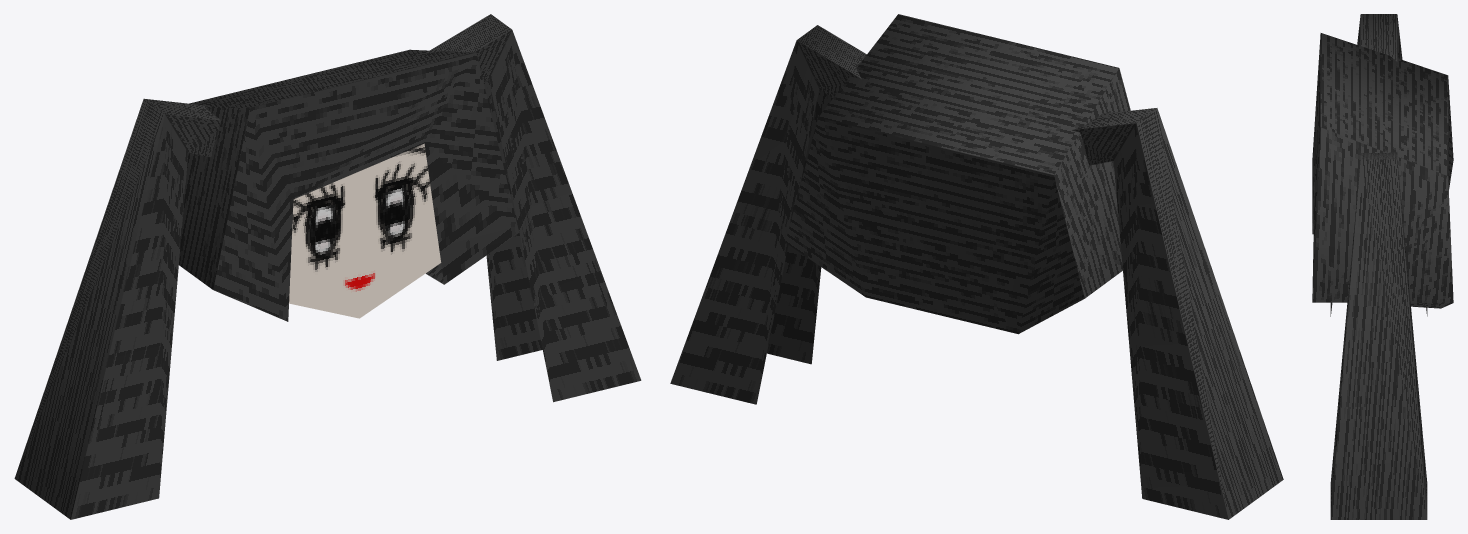
The model's file is C_GH_Head_F10.FBX.
3 views of the same model, side by side, from view 1: azimuth 30°, elevation 25°; view 2: azimuth 150°, elevation 25°; view 3: azimuth 270°, elevation 25° (orthographic). The views are drawn at different scales.
Parts seen in each view (by area): view 1: Hair, Face; view 2: Hair; view 3: Hair.
Part boxes in pixels (x1=…): Hair: x1=14, y1=14, x2=641, y2=519; Face: x1=289, y1=143, x2=441, y2=318; Hair: x1=670, y1=14, x2=1283, y2=519; Hair: x1=1312, y1=14, x2=1453, y2=519.
Bounding box in the file's own units: 61.79 × 38.7 × 15.43.
Materials: 2 (2 with a texture image).
